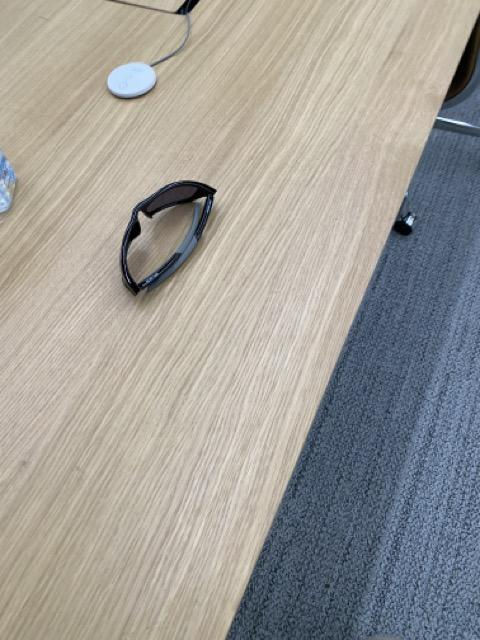Sunglasses: (119, 178, 218, 298)
